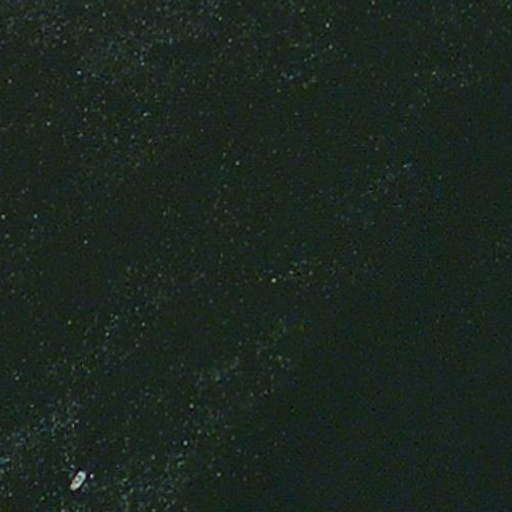ship: (64, 466, 91, 495)
